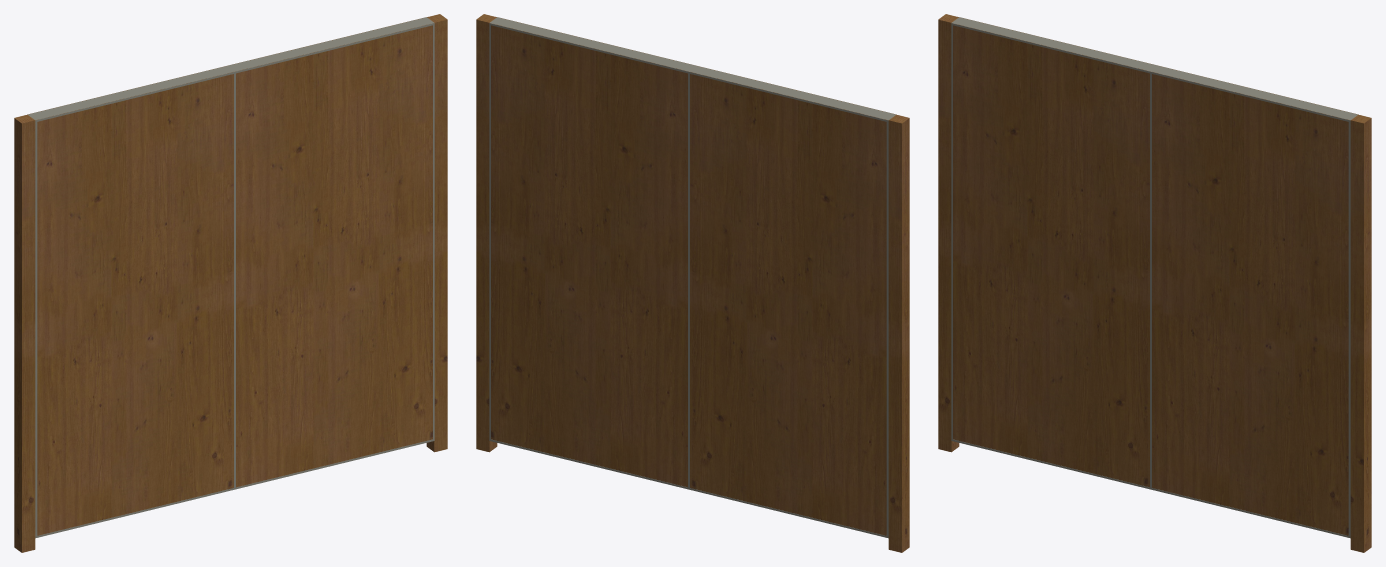
The model's file is ABF5-H1800_naturalpine.fbx.
3 renders of one model, left to right at view 1: azimuth 30°, elevation 25°; view 2: azimuth 150°, elevation 25°; view 3: azimuth 330°, elevation 25°, orthographic.
Parts seen in each view (by area): view 1: ABF5-H1800_natural pine; view 2: ABF5-H1800_natural pine; view 3: ABF5-H1800_natural pine.
Part boxes in pixels (x1,y1,x2,y2): ABF5-H1800_natural pine: (14, 14, 447, 552); ABF5-H1800_natural pine: (476, 14, 909, 552); ABF5-H1800_natural pine: (938, 14, 1371, 552).
Bounding box in the file's own units: 192 × 185 × 6.4.
Materials: 4 (3 with a texture image).
